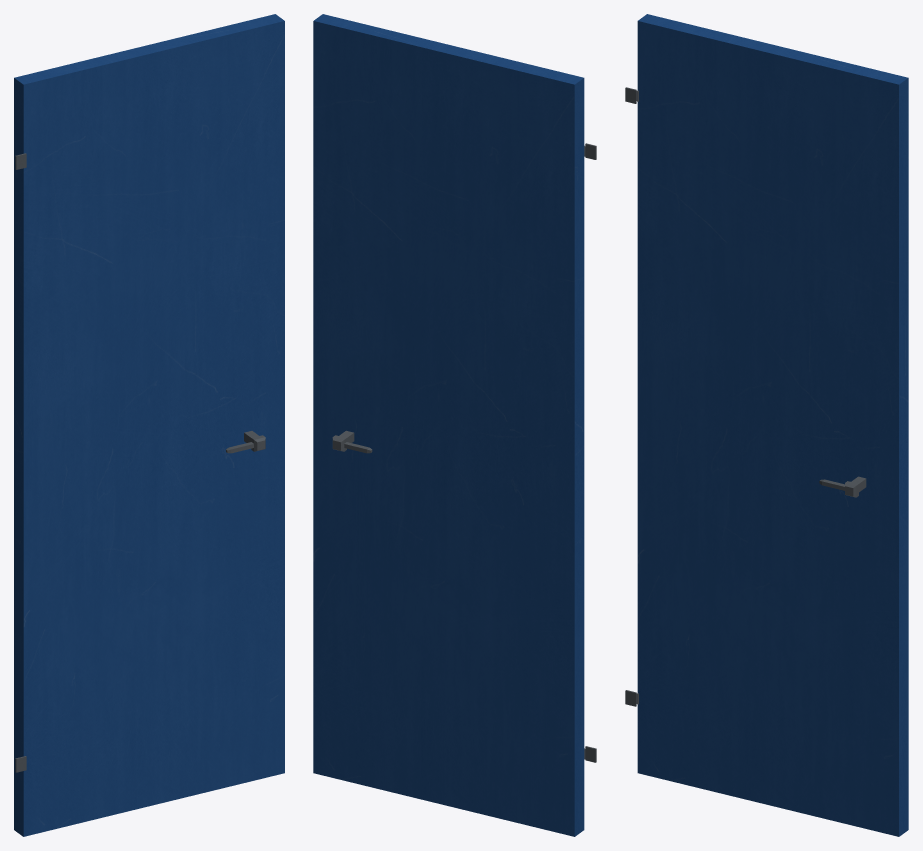
The model's file is Door.fbx.
The picture shows the model from 3 angles, left to right: view 1: azimuth 30°, elevation 25°; view 2: azimuth 150°, elevation 25°; view 3: azimuth 330°, elevation 25°; orthographic projection.
Parts seen in each view (by area): view 1: Door; view 2: Door; view 3: Door.
Boxes of the visible parts, x1=… form: Door: x1=14, y1=14, x2=284, y2=836; Door: x1=313, y1=14, x2=596, y2=836; Door: x1=625, y1=14, x2=908, y2=836.
Size of the model in its own units: 0.83 by 2.2 by 0.19.
